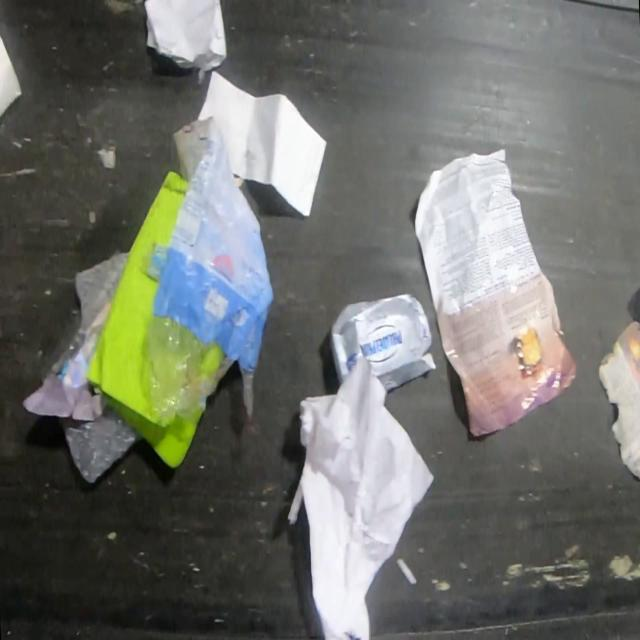cardboard: (327, 292, 436, 393)
soft_plastic: (136, 115, 276, 428), (19, 249, 140, 484)
